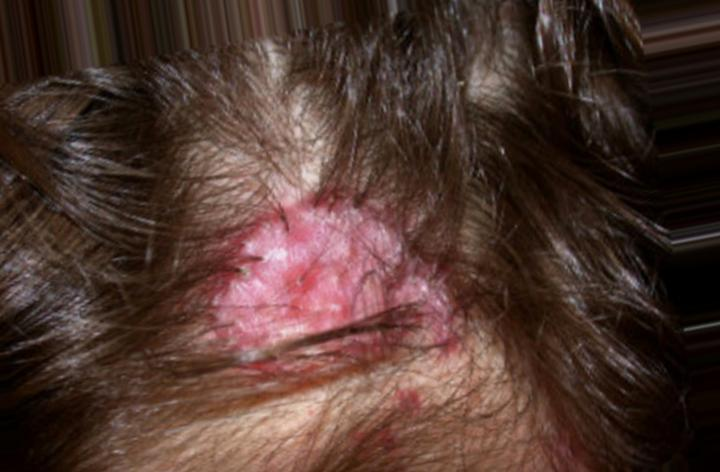Folliculitis: (181, 165, 468, 386)
